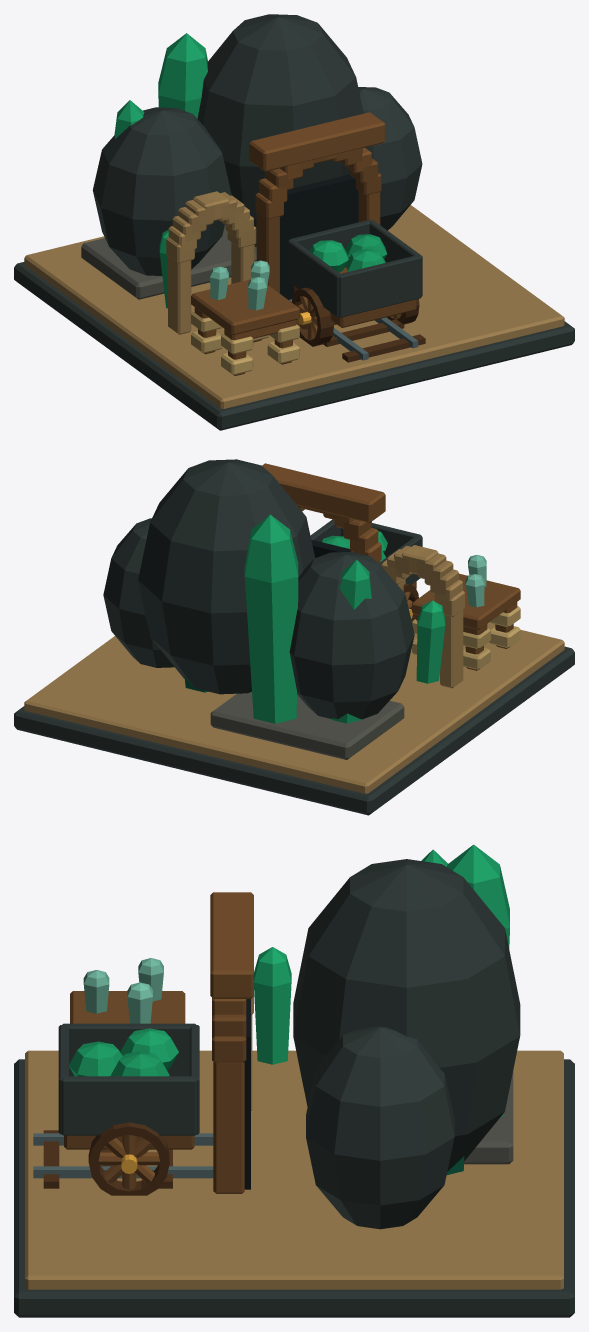
3 views of the same model, one above another, from view 1: azimuth 30°, elevation 25°; view 2: azimuth 150°, elevation 25°; view 3: azimuth 270°, elevation 25° (orthographic). The views are drawn at different scales.
Visible parts, largest first — view 1: gem_mine_4_structure; view 2: gem_mine_4_structure; view 3: gem_mine_4_structure.
Boxes of the visible parts, x1=… form: gem_mine_4_structure: x1=14, y1=14, x2=574, y2=430; gem_mine_4_structure: x1=14, y1=459, x2=574, y2=815; gem_mine_4_structure: x1=14, y1=844, x2=574, y2=1317.
Bounding box in the file's own units: 3.6 × 2.5 × 3.6.
